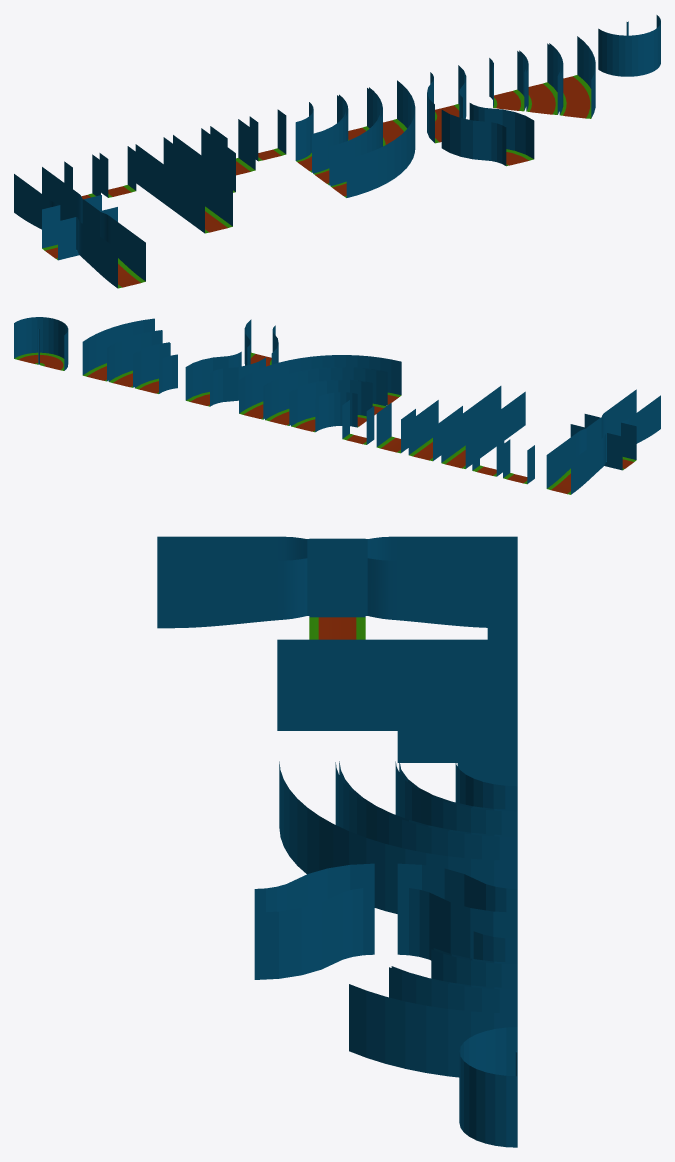
File: DropTrack_Collision.FBX
The picture shows the model from 3 angles, top to bottom: view 1: azimuth 30°, elevation 25°; view 2: azimuth 150°, elevation 25°; view 3: azimuth 270°, elevation 25°; orthographic projection. The views are drawn at different scales.
Parts seen in each view (by area): view 1: DT-C_Bridge, DT-C_64x90, DT-C_64, DT-C_32S-R, DT-C_U-Turn, DT-C_64x45, DT-C_48x90, DT-C_32, DT-C_48x45, DT-C_32S, DT-C_32x90, DT-C_32x45 (+4 smaller); view 2: DT-C_Bridge, DT-C_64, DT-C_64x90, DT-C_32x90, DT-C_48x90, DT-C_32S, DT-C_U-Turn, DT-C_64x45, DT-C_32x45, DT-C_32, DT-C_48x45, DT-C_16 (+4 smaller); view 3: DT-C_Bridge, DT-C_64, DT-C_64x90, DT-C_64x45, DT-C_32S-R, DT-C_32S, DT-C_32, DT-C_U-Turn, DT-C_48x90, DT-C_16, DT-C_48x45, DT-C_32x90 (+4 smaller).
Part boxes in pixels (bbox=[...]): DT-C_Bridge: bbox=[14, 167, 145, 288]; DT-C_64x90: bbox=[330, 80, 415, 197]; DT-C_64: bbox=[135, 137, 232, 233]; DT-C_32S-R: bbox=[441, 103, 534, 166]; DT-C_U-Turn: bbox=[598, 15, 660, 76]; DT-C_64x45: bbox=[549, 36, 595, 118]; DT-C_48x90: bbox=[313, 88, 380, 185]; DT-C_32: bbox=[173, 128, 235, 192]; DT-C_48x45: bbox=[519, 43, 561, 114]; DT-C_32S: bbox=[427, 65, 466, 143]; DT-C_32x90: bbox=[295, 95, 345, 172]; DT-C_32x45: bbox=[489, 51, 526, 111]; DT-C_Bridge: bbox=[546, 389, 660, 494]; DT-C_64: bbox=[441, 386, 525, 468]; DT-C_64x90: bbox=[239, 355, 401, 419]; DT-C_32x90: bbox=[291, 380, 371, 432]; DT-C_48x90: bbox=[265, 367, 386, 425]; DT-C_32S: bbox=[185, 351, 265, 406]; DT-C_U-Turn: bbox=[14, 317, 68, 370]; DT-C_64x45: bbox=[82, 318, 162, 381]; DT-C_32x45: bbox=[134, 343, 177, 393]; DT-C_32: bbox=[408, 400, 462, 461]; DT-C_48x45: bbox=[108, 330, 169, 387]; DT-C_16: bbox=[376, 403, 415, 453]; DT-C_Bridge: bbox=[157, 536, 517, 639]; DT-C_64: bbox=[277, 639, 517, 730]; DT-C_64x90: bbox=[279, 761, 517, 913]; DT-C_64x45: bbox=[349, 967, 517, 1077]; DT-C_32S-R: bbox=[254, 863, 374, 979]; DT-C_32S: bbox=[397, 863, 517, 960]; DT-C_32: bbox=[397, 671, 517, 762]; DT-C_U-Turn: bbox=[459, 1027, 517, 1147]; DT-C_48x90: bbox=[339, 761, 517, 836]; DT-C_16: bbox=[457, 702, 517, 782]; DT-C_48x45: bbox=[391, 949, 517, 989]; DT-C_32x90: bbox=[399, 761, 517, 811].
Bounding box in the file's own units: 52697 × 3182 × 14400.
